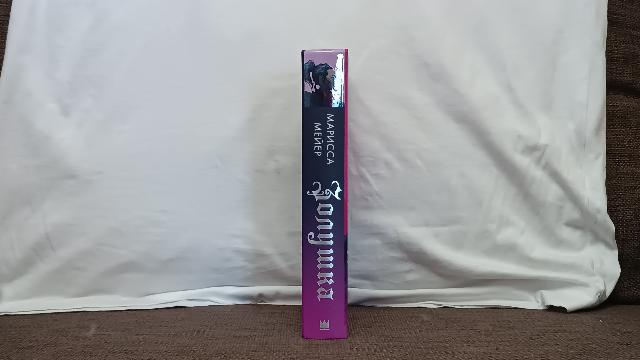book-s-spine: (301, 49, 348, 340)
